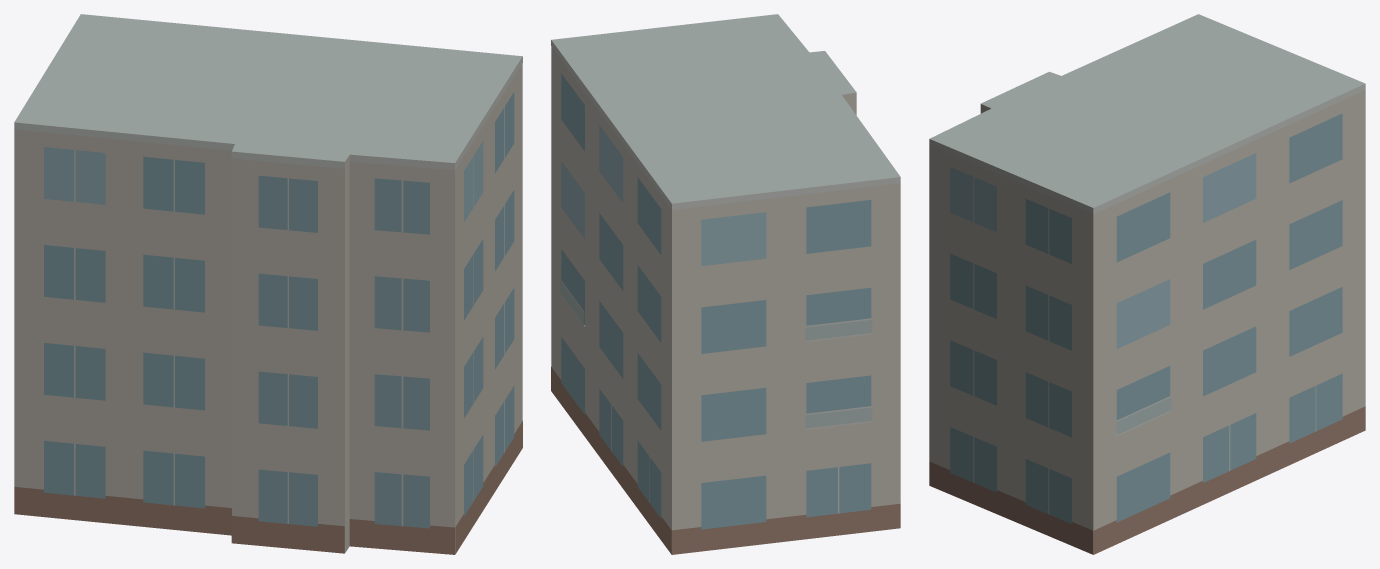
File: survey-upis-32819115.glb
3 views of the same model, side by side, from view 1: azimuth 30°, elevation 25°; view 2: azimuth 150°, elevation 25°; view 3: azimuth 270°, elevation 25° (orthographic). The views are drawn at different scales.
Parts seen in each view (by area): view 1: survey-upis-32819115.tmp; view 2: survey-upis-32819115.tmp; view 3: survey-upis-32819115.tmp.
Boxes of the visible parts, x1,y1,x2,y2 form: survey-upis-32819115.tmp: (14, 14, 522, 554); survey-upis-32819115.tmp: (551, 14, 900, 554); survey-upis-32819115.tmp: (929, 14, 1365, 554).
Bounding box in the file's own units: 16.33 × 13.6 × 15.51.
